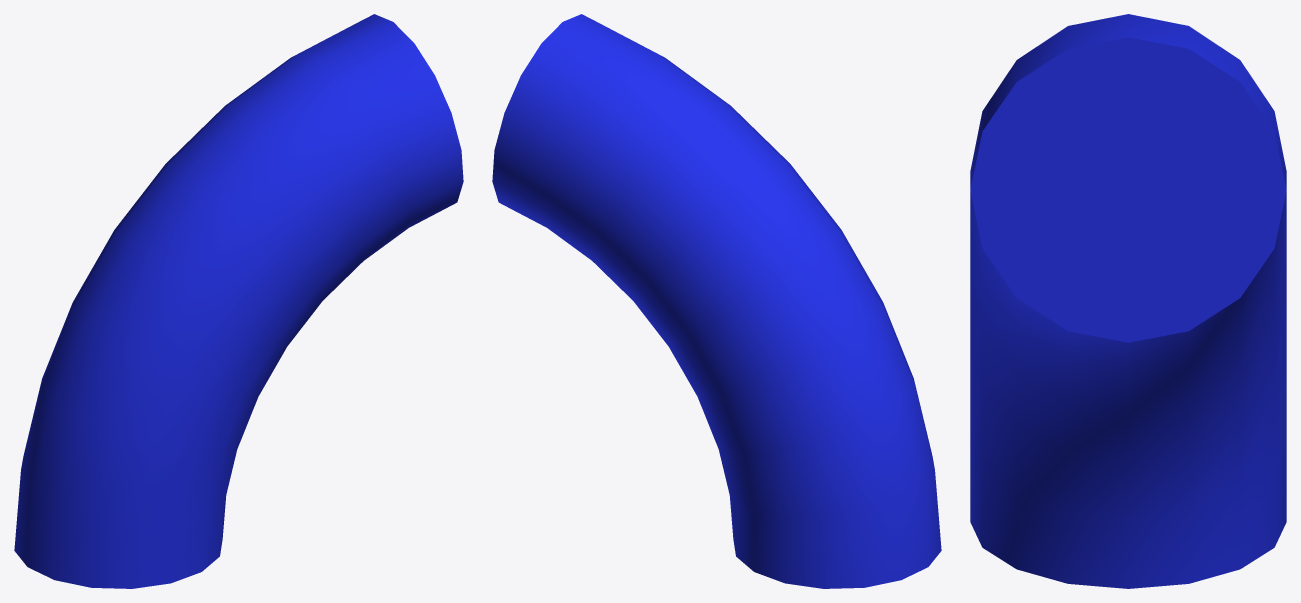
Rendered from cylinder-bend-blue.fbx.
3 views of the same model, side by side, from view 1: azimuth 30°, elevation 25°; view 2: azimuth 150°, elevation 25°; view 3: azimuth 270°, elevation 25° (orthographic). The views are drawn at different scales.
Parts seen in each view (by area): view 1: Cylinder; view 2: Cylinder; view 3: Cylinder.
Part boxes in pixels (x1,y1,x2,y2): Cylinder: [14, 14, 463, 588]; Cylinder: [492, 14, 941, 588]; Cylinder: [970, 14, 1286, 588].
Size of the model in its own units: 218 by 240 by 100.
